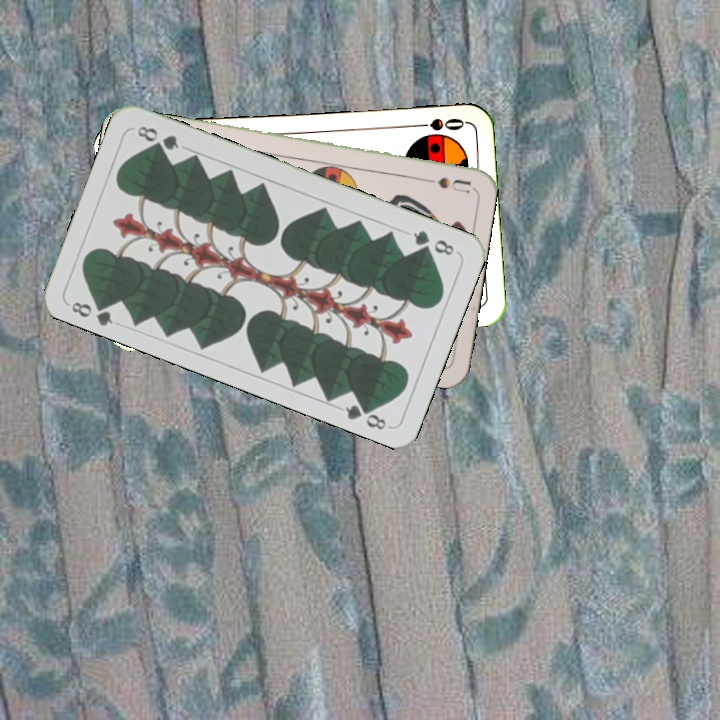G8: (65, 294, 116, 328), (409, 226, 457, 258)
SO: (408, 114, 467, 134)
SU: (412, 173, 472, 195)
